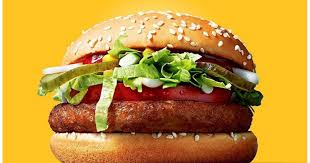hamburger: (33, 7, 266, 163)
